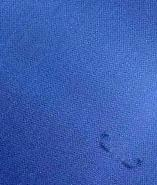knot: (120, 150, 145, 171), (96, 132, 117, 154)
